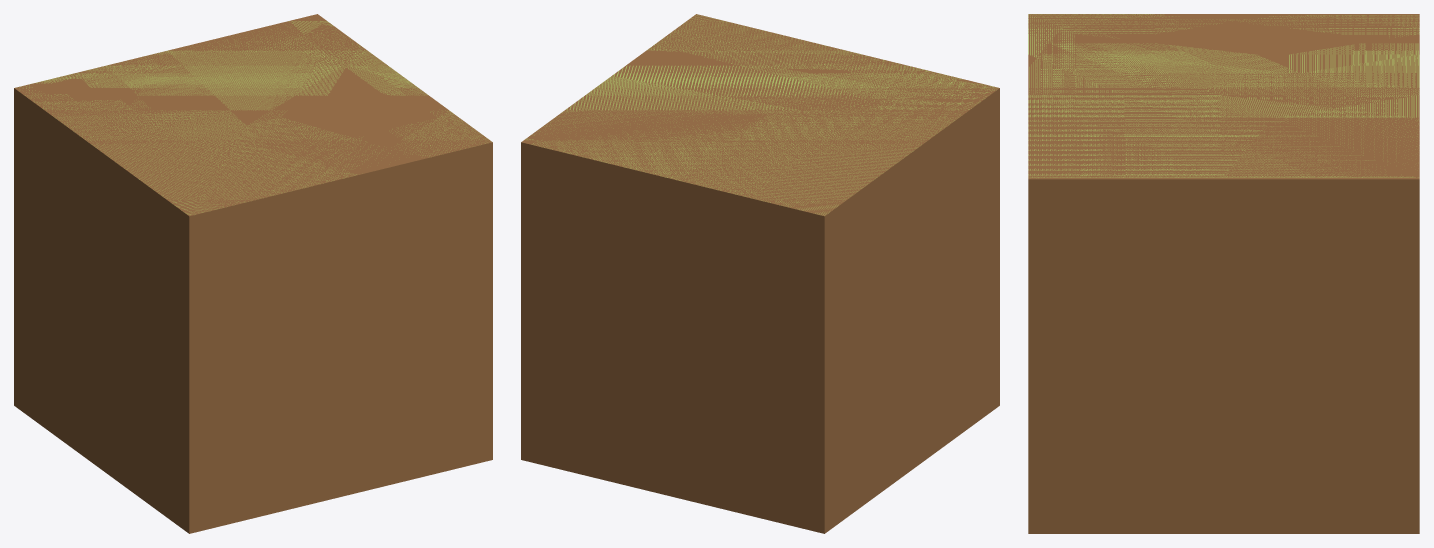
The model's file is grass-tile-2.gltf.
The picture shows the model from 3 angles, left to right: view 1: azimuth 30°, elevation 25°; view 2: azimuth 150°, elevation 25°; view 3: azimuth 270°, elevation 25°; orthographic projection. The views are drawn at different scales.
Visible parts, largest first — view 1: Cube.001, Grass; view 2: Cube.001, Grass; view 3: Cube.001, Grass.
Part boxes in pixels (x1,y1,x2,y2): Cube.001: (14,14,492,533); Grass: (19,21,488,214); Cube.001: (521,14,999,533); Grass: (525,15,996,215); Cube.001: (1028,14,1419,533); Grass: (1028,14,1419,177).
Bounding box in the file's own units: 2 × 2 × 2.
